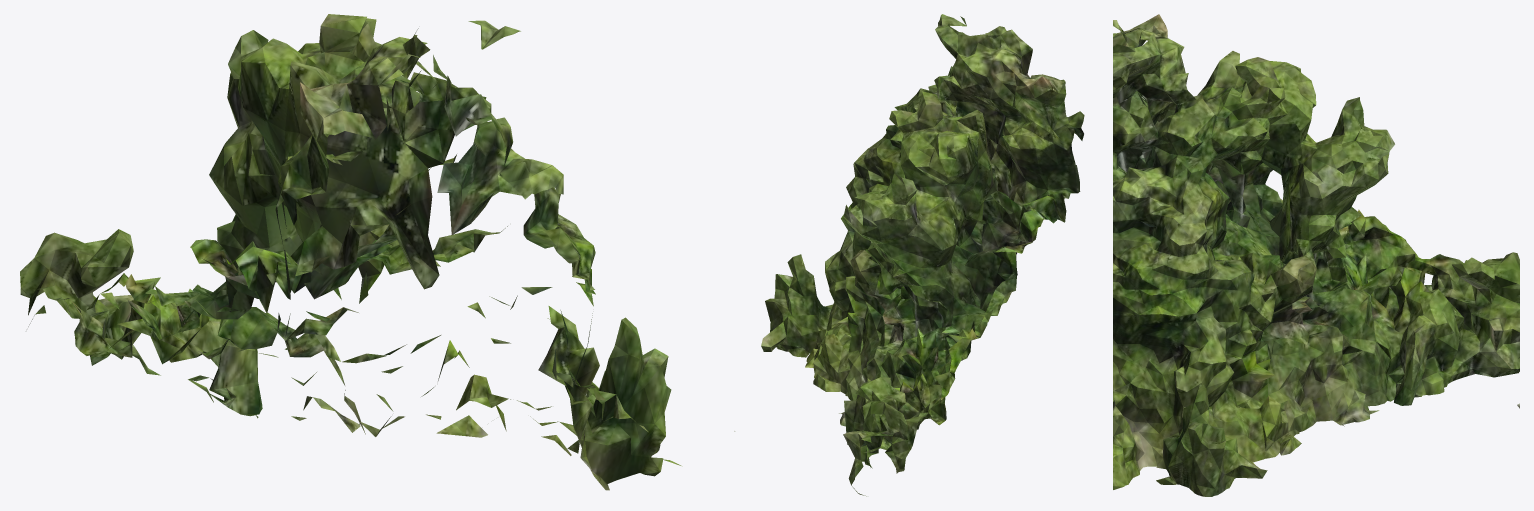
The picture shows the model from 3 angles, left to right: view 1: azimuth 30°, elevation 25°; view 2: azimuth 150°, elevation 25°; view 3: azimuth 270°, elevation 25°; orthographic projection. The views are drawn at different scales.
Bounding box in the file's own units: 22.77 × 26.11 × 26.11.
6 materials, 6 textured.
